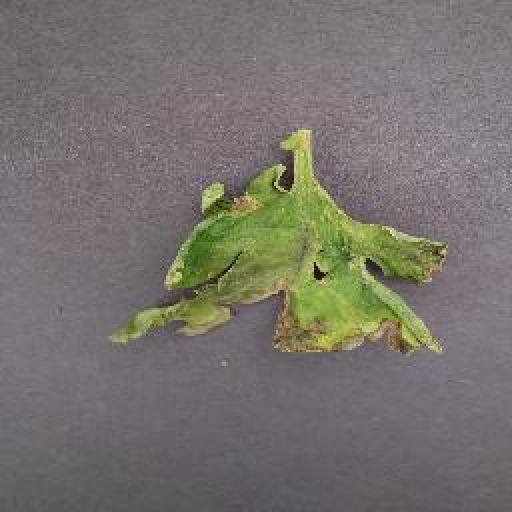Late Blight: (112, 128, 448, 359)
